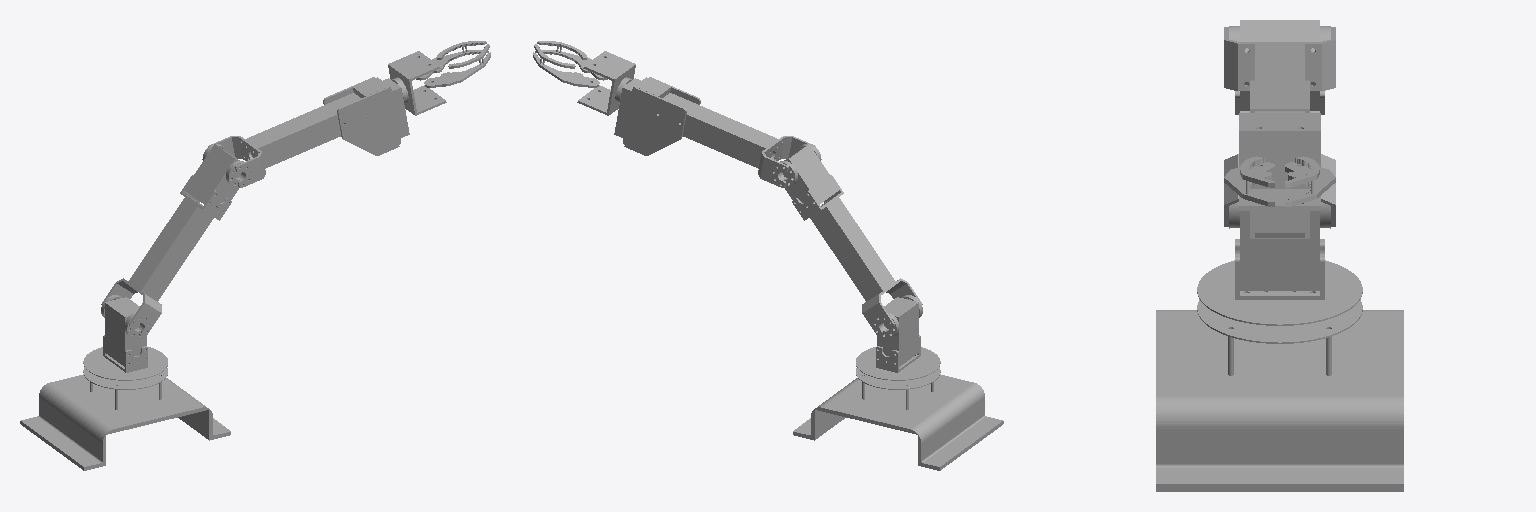
URDF robot description (angle_excurate_arm_ver2):
<?xml version='1.0' encoding='utf-8'?>
<robot name="angle_excurate_arm_ver2">
  
  <material name="silver">
    <color rgba="0.700 0.700 0.700 1.000" />
  </material>
  <transmission name="Revolute 1_tran">
    <type>transmission_interface/SimpleTransmission</type>
    <joint name="Revolute 1">
      <hardwareInterface>hardware_interface/EffortJointInterface</hardwareInterface>
    </joint>
    <actuator name="Revolute 1_actr">
      <hardwareInterface>hardware_interface/EffortJointInterface</hardwareInterface>
      <mechanicalReduction>1</mechanicalReduction>
    </actuator>
  </transmission>
  <transmission name="Revolute 2_tran">
    <type>transmission_interface/SimpleTransmission</type>
    <joint name="Revolute 2">
      <hardwareInterface>hardware_interface/EffortJointInterface</hardwareInterface>
    </joint>
    <actuator name="Revolute 2_actr">
      <hardwareInterface>hardware_interface/EffortJointInterface</hardwareInterface>
      <mechanicalReduction>1</mechanicalReduction>
    </actuator>
  </transmission>
  <transmission name="Revolute 3_tran">
    <type>transmission_interface/SimpleTransmission</type>
    <joint name="Revolute 3">
      <hardwareInterface>hardware_interface/EffortJointInterface</hardwareInterface>
    </joint>
    <actuator name="Revolute 3_actr">
      <hardwareInterface>hardware_interface/EffortJointInterface</hardwareInterface>
      <mechanicalReduction>1</mechanicalReduction>
    </actuator>
  </transmission>
  <transmission name="Revolute 4_tran">
    <type>transmission_interface/SimpleTransmission</type>
    <joint name="Revolute 4">
      <hardwareInterface>hardware_interface/EffortJointInterface</hardwareInterface>
    </joint>
    <actuator name="Revolute 4_actr">
      <hardwareInterface>hardware_interface/EffortJointInterface</hardwareInterface>
      <mechanicalReduction>1</mechanicalReduction>
    </actuator>
  </transmission>
  <transmission name="Revolute 5_tran">
    <type>transmission_interface/SimpleTransmission</type>
    <joint name="Revolute 5">
      <hardwareInterface>hardware_interface/EffortJointInterface</hardwareInterface>
    </joint>
    <actuator name="Revolute 5_actr">
      <hardwareInterface>hardware_interface/EffortJointInterface</hardwareInterface>
      <mechanicalReduction>1</mechanicalReduction>
    </actuator>
  </transmission>
  <transmission name="Revolute 6_tran">
    <type>transmission_interface/SimpleTransmission</type>
    <joint name="Revolute 6">
      <hardwareInterface>hardware_interface/EffortJointInterface</hardwareInterface>
    </joint>
    <actuator name="Revolute 6_actr">
      <hardwareInterface>hardware_interface/EffortJointInterface</hardwareInterface>
      <mechanicalReduction>1</mechanicalReduction>
    </actuator>
  </transmission>
  <gazebo>
    <plugin name="control" filename="libgazebo_ros_control.so" />
  </gazebo>
  <gazebo reference="base_link">
    <material>Gazebo/Silver</material>
    <mu1>0.2</mu1>
    <mu2>0.2</mu2>
    <selfCollide>true</selfCollide>
    <gravity>true</gravity>
  </gazebo>
  <gazebo reference="base_link2_v2_1">
    <material>Gazebo/Silver</material>
    <mu1>0.2</mu1>
    <mu2>0.2</mu2>
    <selfCollide>true</selfCollide>
  </gazebo>
  <gazebo reference="link3_v1_1">
    <material>Gazebo/Silver</material>
    <mu1>0.2</mu1>
    <mu2>0.2</mu2>
    <selfCollide>true</selfCollide>
  </gazebo>
  <gazebo reference="link4_v1_1">
    <material>Gazebo/Silver</material>
    <mu1>0.2</mu1>
    <mu2>0.2</mu2>
    <selfCollide>true</selfCollide>
  </gazebo>
  <gazebo reference="robot_ver7_link_4_v1_1">
    <material>Gazebo/Silver</material>
    <mu1>0.2</mu1>
    <mu2>0.2</mu2>
    <selfCollide>true</selfCollide>
  </gazebo>
  <gazebo reference="robot_ver7_grap2_2_v1_1">
    <material>Gazebo/Silver</material>
    <mu1>0.2</mu1>
    <mu2>0.2</mu2>
    <selfCollide>true</selfCollide>
  </gazebo>
  <gazebo reference="robot_ver7_grap1_2_v1_1">
    <material>Gazebo/Silver</material>
    <mu1>0.2</mu1>
    <mu2>0.2</mu2>
    <selfCollide>true</selfCollide>
  </gazebo>
  <link name="world">
    <origin xyz="0 0 0" rpy="0 0 0" />
  </link>
  <link name="base_link">
    <inertial>
      <origin xyz="0 0 0" rpy="0 0 0" />
      <mass value="1.6067306789990348" />
      <inertia ixx="0.003521" iyy="0.006468" izz="0.008802" ixy="0.0" iyz="-0.0" ixz="0.0" />
    </inertial>
    <visual>
      <origin xyz="0 0 0" rpy="0 0 0" />
      <geometry>
        <mesh filename="meshes/base_link.obj" scale="0.001 0.001 0.001" />
      </geometry>
      <material name="silver" />
    </visual>
    <collision>
      <origin xyz="0 0 0" rpy="0 0 0" />
      <geometry>
        <mesh filename="meshes/base_link.obj" scale="0.001 0.001 0.001" />
      </geometry>
    </collision>
  </link>
  <link name="base_link2_v2_1">
    <inertial>
      <origin xyz="3.7404378527838844e-07 7.073274099766991e-08 0.04484445545928446" rpy="0 0 0" />
      <mass value="0.8724221516717809" />
      <inertia ixx="0.000636" iyy="0.000529" izz="0.000308" ixy="-0.0" iyz="0.0" ixz="-0.0" />
    </inertial>
    <visual>
      <origin xyz="-2.989375 -1.116433 -0.075907" rpy="0 0 0" />
      <geometry>
        <mesh filename="meshes/base_link2_v2_1.obj" scale="0.001 0.001 0.001" />
      </geometry>
      <material name="silver" />
    </visual>
    <collision>
      <origin xyz="-2.989375 -1.116433 -0.075907" rpy="0 0 0" />
      <geometry>
        <mesh filename="meshes/base_link2_v2_1.obj" scale="0.001 0.001 0.001" />
      </geometry>
    </collision>
  </link>
  <link name="link3_v1_1">
    <inertial>
      <origin xyz="0.08484430230025541 -1.520309589331248e-08 0.10111258233522977" rpy="0 0 0" />
      <mass value="1.7894494256516058" />
      <inertia ixx="0.00475" iyy="0.007559" izz="0.003484" ixy="-0.0" iyz="-0.0" ixz="-0.003589" />
    </inertial>
    <visual>
      <origin xyz="-2.989375 -1.116433 -0.146249" rpy="0 0 0" />
      <geometry>
        <mesh filename="meshes/link3_v1_1.obj" scale="0.001 0.001 0.001" />
      </geometry>
      <material name="silver" />
    </visual>
    <collision>
      <origin xyz="-2.989375 -1.116433 -0.146249" rpy="0 0 0" />
      <geometry>
        <mesh filename="meshes/link3_v1_1.obj" scale="0.001 0.001 0.001" />
      </geometry>
    </collision>
  </link>
  <link name="link4_v1_1">
    <inertial>
      <origin xyz="0.1482264138500775 -9.6959044348921e-08 0.01783008469499825" rpy="0 0 0" />
      <mass value="2.301167222256875" />
      <inertia ixx="0.001028" iyy="0.010731" izz="0.010331" ixy="-0.0" iyz="0.0" ixz="-0.000548" />
    </inertial>
    <visual>
      <origin xyz="-3.127152 -1.116433 -0.310444" rpy="0 0 0" />
      <geometry>
        <mesh filename="meshes/link4_v1_1.obj" scale="0.001 0.001 0.001" />
      </geometry>
      <material name="silver" />
    </visual>
    <collision>
      <origin xyz="-3.127152 -1.116433 -0.310444" rpy="0 0 0" />
      <geometry>
        <mesh filename="meshes/link4_v1_1.obj" scale="0.001 0.001 0.001" />
      </geometry>
    </collision>
  </link>
  <link name="robot_ver7_link_4_v1_1">
    <inertial>
      <origin xyz="0.01789286974697868 -9.695904212847495e-08 0.0031552779596022984" rpy="0 0 0" />
      <mass value="0.1836674229836172" />
      <inertia ixx="9.9e-05" iyy="0.000103" izz="7.2e-05" ixy="0.0" iyz="0.0" ixz="5e-06" />
    </inertial>
    <visual>
      <origin xyz="-3.357435 -1.116433 -0.35257" rpy="0 0 0" />
      <geometry>
        <mesh filename="meshes/robot_ver7_link_4_v1_1.obj" scale="0.001 0.001 0.001" />
      </geometry>
      <material name="silver" />
    </visual>
    <collision>
      <origin xyz="-3.357435 -1.116433 -0.35257" rpy="0 0 0" />
      <geometry>
        <mesh filename="meshes/robot_ver7_link_4_v1_1.obj" scale="0.001 0.001 0.001" />
      </geometry>
    </collision>
  </link>
  <link name="robot_ver7_grap2_2_v1_1">
    <inertial>
      <origin xyz="0.03188502329176801 -0.005587167552119965 0.008275354159303638" rpy="0 0 0" />
      <mass value="0.04062678364092949" />
      <inertia ixx="4e-06" iyy="2.6e-05" izz="2.5e-05" ixy="-0.0" iyz="-0.0" ixz="-6e-06" />
    </inertial>
    <visual>
      <origin xyz="-3.398994 -1.103933 -0.359898" rpy="0 0 0" />
      <geometry>
        <mesh filename="meshes/robot_ver7_grap2_2_v1_1.obj" scale="0.001 0.001 0.001" />
      </geometry>
      <material name="silver" />
    </visual>
    <collision>
      <origin xyz="-3.398994 -1.103933 -0.359898" rpy="0 0 0" />
      <geometry>
        <mesh filename="meshes/robot_ver7_grap2_2_v1_1.obj" scale="0.001 0.001 0.001" />
      </geometry>
    </collision>
  </link>
  <link name="robot_ver7_grap1_2_v1_1">
    <inertial>
      <origin xyz="0.03188502329176801 0.005586973634027714 0.008275354159306136" rpy="0 0 0" />
      <mass value="0.040626783640931655" />
      <inertia ixx="4e-06" iyy="2.6e-05" izz="2.5e-05" ixy="0.0" iyz="0.0" ixz="-6e-06" />
    </inertial>
    <visual>
      <origin xyz="-3.398994 -1.128933 -0.359898" rpy="0 0 0" />
      <geometry>
        <mesh filename="meshes/robot_ver7_grap1_2_v1_1.obj" scale="0.001 0.001 0.001" />
      </geometry>
      <material name="silver" />
    </visual>
    <collision>
      <origin xyz="-3.398994 -1.128933 -0.359898" rpy="0 0 0" />
      <geometry>
        <mesh filename="meshes/robot_ver7_grap1_2_v1_1.obj" scale="0.001 0.001 0.001" />
      </geometry>
    </collision>
  </link>
  <joint name="world_to_base" type="fixed">
  <origin xyz="0 0 0" rpy="0 0 0"/>
    <parent link="world"/>
    <child link="base_link"/>
  </joint>
  <joint name="Revolute 1" type="revolute">
    <origin xyz="2.989375 1.116433 0.075907" rpy="0 0 0" />
    <parent link="base_link" />
    <child link="base_link2_v2_1" />
    <axis xyz="-0.0 -0.0 1.0" />
    <limit upper="3.141593" lower="0.0" effort="100" velocity="100" />
  </joint>
  <joint name="Revolute 2" type="revolute">
    <origin xyz="0.0 0.0 0.070342" rpy="0 0 0" />
    <parent link="base_link2_v2_1" />
    <child link="link3_v1_1" />
    <axis xyz="-0.0 -1.0 -0.0" />
    <limit upper="2.094395" lower="0.0" effort="100" velocity="100" />
  </joint>
  <joint name="Revolute 3" type="revolute">
    <origin xyz="0.137777 0.0 0.164195" rpy="0 0 0" />
    <parent link="link3_v1_1" />
    <child link="link4_v1_1" />
    <axis xyz="-0.0 -1.0 -0.0" />
    <limit upper="2.617994" lower="0.0" effort="100" velocity="100" />
  </joint>
  <joint name="Revolute 4" type="revolute">
    <origin xyz="0.230283 0.0 0.042126" rpy="0 0 0" />
    <parent link="link4_v1_1" />
    <child link="robot_ver7_link_4_v1_1" />
    <axis xyz="0.984808 -0.0 0.173648" />
    <limit upper="3.141593" lower="0.0" effort="100" velocity="100" />
  </joint>
  <joint name="Revolute 5" type="revolute">
    <origin xyz="0.041559 -0.0125 0.007328" rpy="0 0 0" />
    <parent link="robot_ver7_link_4_v1_1" />
    <child link="robot_ver7_grap2_2_v1_1" />
    <axis xyz="0.173648 0.0 -0.984808" />
    <limit upper="1.22173" lower="0.0" effort="100" velocity="100" />
  </joint>
  <joint name="Revolute 6" type="revolute">
    <origin xyz="0.041559 0.0125 0.007328" rpy="0 0 0" />
    <parent link="robot_ver7_link_4_v1_1" />
    <child link="robot_ver7_grap1_2_v1_1" />
    <axis xyz="-0.173648 -0.0 0.984808" />
    <limit upper="1.22173" lower="0.0" effort="100" velocity="100" />
    
  </joint>
</robot>

--- Facts derived from the render (not from the file) ---
The picture shows the robot from 3 angles, left to right: view 1: azimuth 30°, elevation 25°; view 2: azimuth 150°, elevation 25°; view 3: azimuth 270°, elevation 25°; orthographic projection.
Robot: angle_excurate_arm_ver2 — 8 links, 7 joints (6 revolute, 1 fixed); root link world; default pose: all joints at 0.
Visible links, largest first — view 1: base_link, link4_v1_1, link3_v1_1, base_link2_v2_1, robot_ver7_link_4_v1_1, robot_ver7_grap2_2_v1_1, robot_ver7_grap1_2_v1_1; view 2: base_link, link4_v1_1, link3_v1_1, base_link2_v2_1, robot_ver7_link_4_v1_1, robot_ver7_grap1_2_v1_1, robot_ver7_grap2_2_v1_1; view 3: base_link, base_link2_v2_1, link4_v1_1, robot_ver7_link_4_v1_1, link3_v1_1, robot_ver7_grap2_2_v1_1, robot_ver7_grap1_2_v1_1.
Boxes of the visible links, left/top/right/bottom form: base_link: left=20, top=367, right=230, bottom=470; link4_v1_1: left=202, top=77, right=409, bottom=187; link3_v1_1: left=101, top=144, right=241, bottom=338; base_link2_v2_1: left=83, top=297, right=167, bottom=380; robot_ver7_link_4_v1_1: left=388, top=51, right=446, bottom=115; robot_ver7_grap2_2_v1_1: left=424, top=44, right=490, bottom=87; robot_ver7_grap1_2_v1_1: left=416, top=41, right=488, bottom=80; base_link: left=793, top=367, right=1003, bottom=470; link4_v1_1: left=614, top=77, right=821, bottom=187; link3_v1_1: left=782, top=144, right=922, bottom=338; base_link2_v2_1: left=856, top=297, right=940, bottom=380; robot_ver7_link_4_v1_1: left=577, top=51, right=635, bottom=115; robot_ver7_grap1_2_v1_1: left=533, top=44, right=599, bottom=87; robot_ver7_grap2_2_v1_1: left=535, top=41, right=607, bottom=80; base_link: left=1156, top=299, right=1403, bottom=491; base_link2_v2_1: left=1197, top=211, right=1362, bottom=325; link4_v1_1: left=1224, top=26, right=1335, bottom=238; robot_ver7_link_4_v1_1: left=1239, top=113, right=1320, bottom=210; link3_v1_1: left=1224, top=20, right=1335, bottom=228; robot_ver7_grap2_2_v1_1: left=1224, top=156, right=1274, bottom=206; robot_ver7_grap1_2_v1_1: left=1285, top=156, right=1335, bottom=206.
Size in the robot's own frame: 0.5947 by 0.15 by 0.3882 metres.
Meshes: 7 distinct files referenced, 7 mesh visuals loaded (7 OBJ).